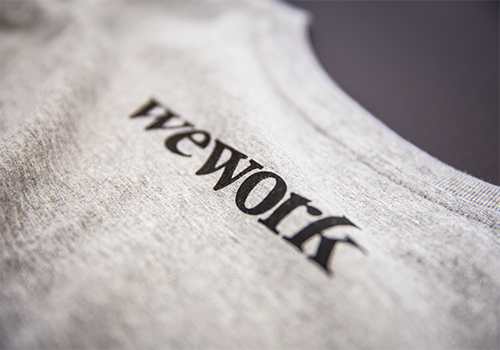wework: (127, 93, 368, 283)
